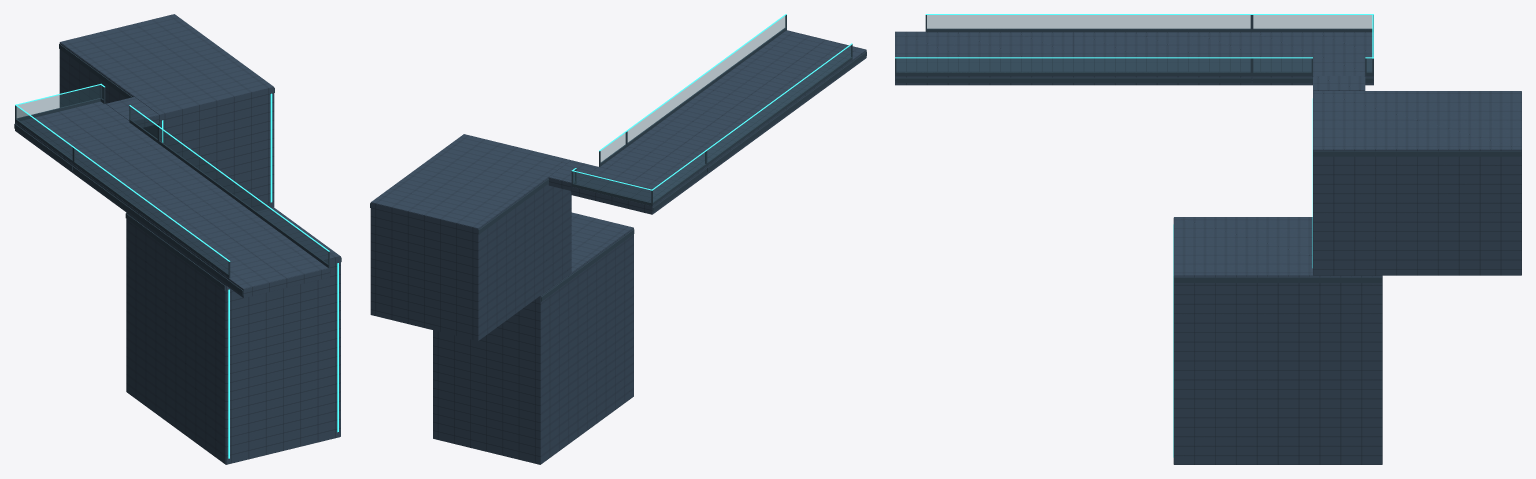
File: terrace-portal-4.glb
The picture shows the model from 3 angles, left to right: view 1: azimuth 30°, elevation 25°; view 2: azimuth 150°, elevation 25°; view 3: azimuth 270°, elevation 25°; orthographic projection. The views are drawn at different scales.
Visible parts, largest first — view 1: terrace-portal-4; view 2: terrace-portal-4; view 3: terrace-portal-4.
Part boxes in pixels (x1=…): terrace-portal-4: x1=14, y1=14, x2=341, y2=464; terrace-portal-4: x1=370, y1=14, x2=866, y2=464; terrace-portal-4: x1=895, y1=14, x2=1521, y2=464.
Size of the model in its own units: 16.1 by 21.13 by 36.
Materials: 5 (1 with a texture image).
